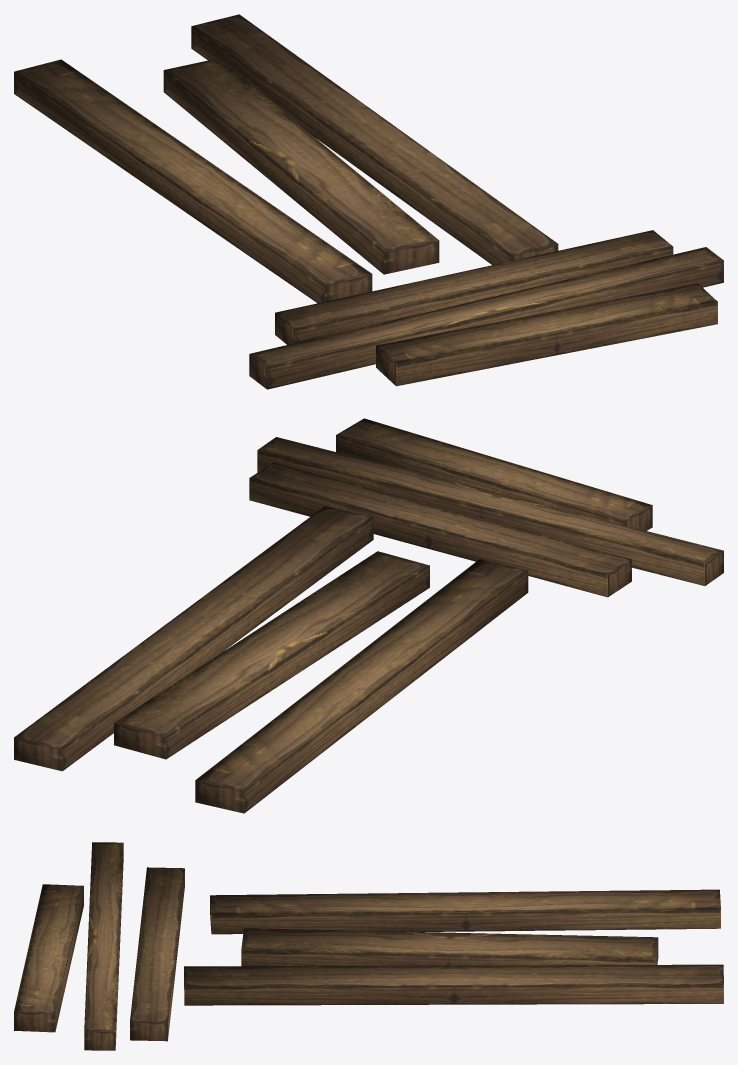
Rendered from Plank_05.FBX.
The picture shows the model from 3 angles, top to bottom: view 1: azimuth 30°, elevation 25°; view 2: azimuth 150°, elevation 25°; view 3: azimuth 270°, elevation 25°; orthographic projection. The views are drawn at different scales.
Visible parts, largest first — view 1: Plank_05; view 2: Plank_05; view 3: Plank_05.
Part boxes in pixels (x1,y1,x2,y2): Plank_05: (14,14,723,389); Plank_05: (14,418,723,813); Plank_05: (14,842,723,1050).
Bounding box in the file's own units: 2.33 × 3.69 × 0.1095.
